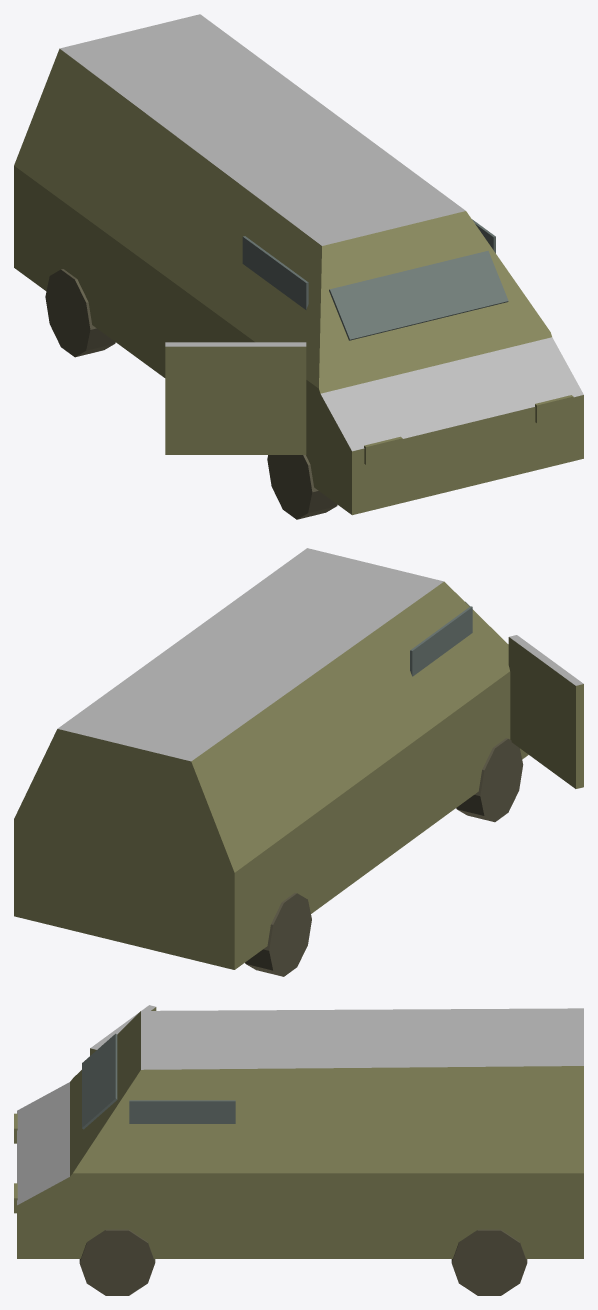
Rendered from SM_CocheCivil_Furgoneta_v1_LOD0.fbx.
The picture shows the model from 3 angles, top to bottom: view 1: azimuth 30°, elevation 25°; view 2: azimuth 150°, elevation 25°; view 3: azimuth 270°, elevation 25°; orthographic projection. The views are drawn at different scales.
Parts seen in each view (by area): view 1: SM_coche_civil_v11_LOD0; view 2: SM_coche_civil_v11_LOD0; view 3: SM_coche_civil_v11_LOD0.
Boxes of the visible parts, x1,y1,x2,y2 form: SM_coche_civil_v11_LOD0: (14,14,583,519); SM_coche_civil_v11_LOD0: (14,548,583,976); SM_coche_civil_v11_LOD0: (14,1005,583,1295).
Bounding box in the file's own units: 2.8 × 1.96 × 4.83.
